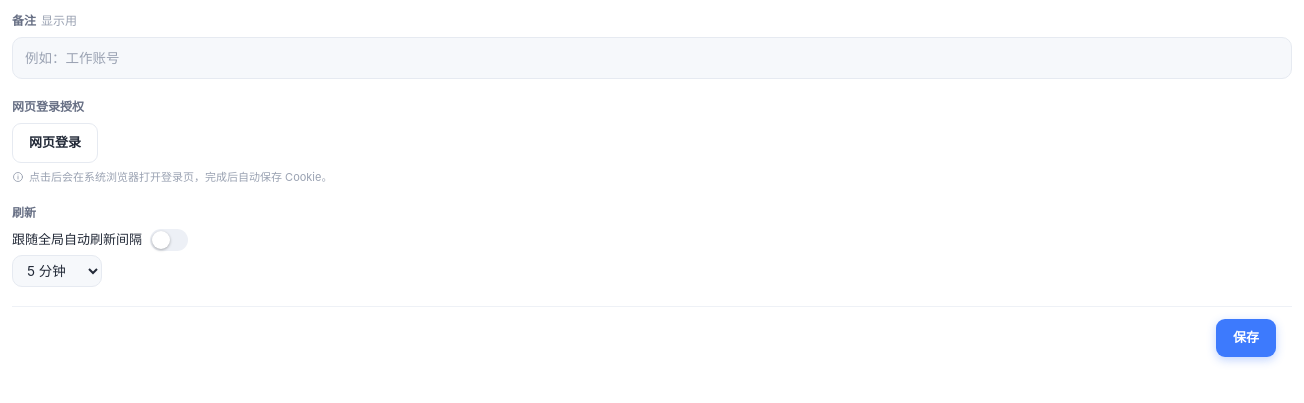
Scenario: SettingsForm web_login editing (t157) › does not save when web login returns empty cookie
Click the button "网页登录" at (55, 143), box [12,123,98,163]
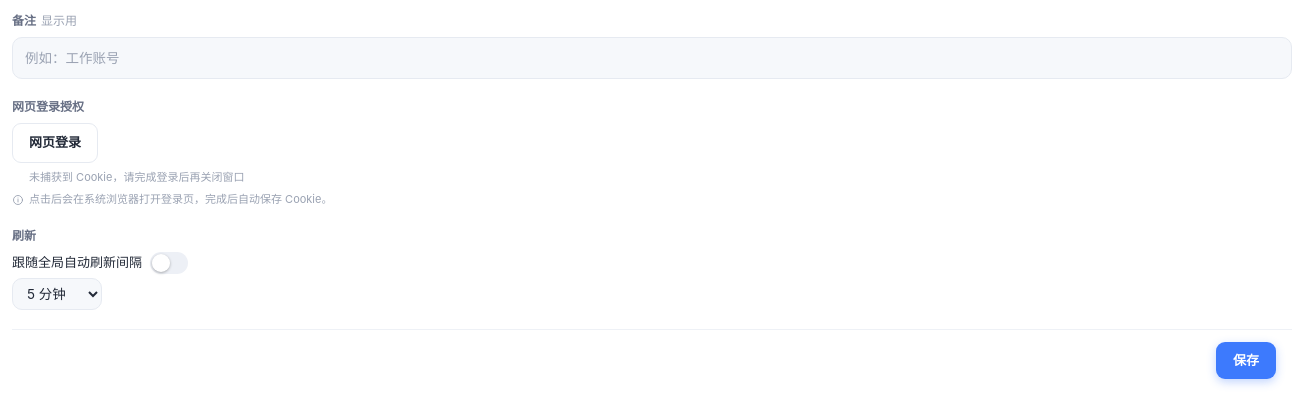
Expected: the text "未捕获到 Cookie，请完成登录后再关闭窗口" is shown, [12,170,244,184]
